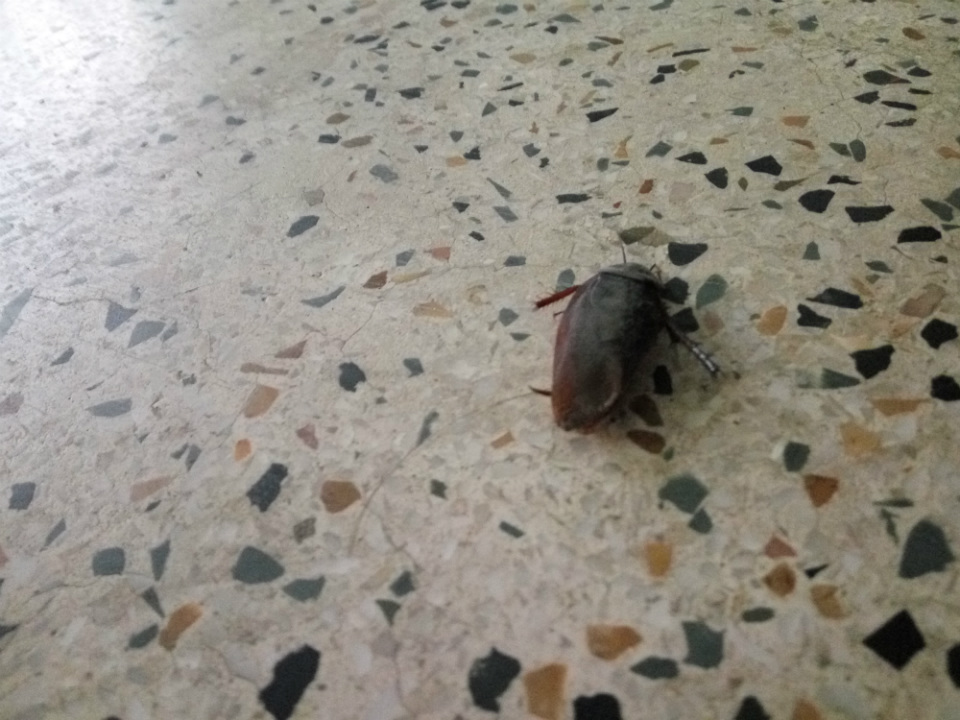cockroach: (519, 198, 750, 497)
